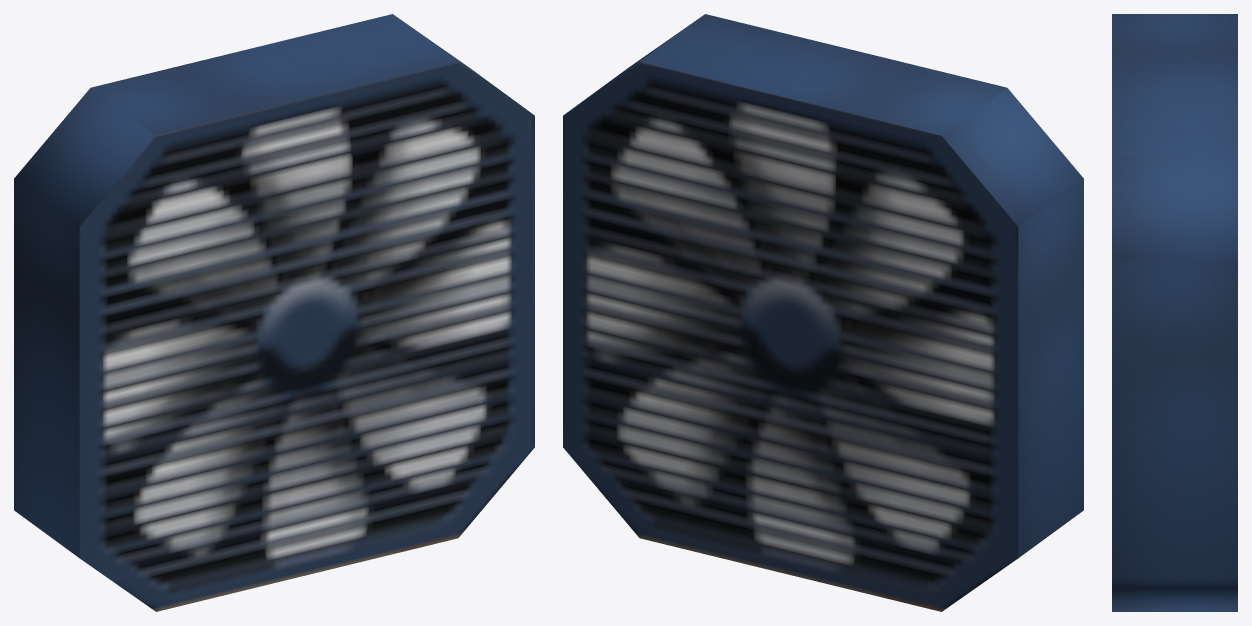
Rendered from BoxFan.fbx.
3 renders of one model, left to right at view 1: azimuth 30°, elevation 25°; view 2: azimuth 150°, elevation 25°; view 3: azimuth 270°, elevation 25°, orthographic. The views are drawn at different scales.
Parts seen in each view (by area): view 1: Maya_File_Assets:TexturedAssetsCurrent:boxFan; view 2: Maya_File_Assets:TexturedAssetsCurrent:boxFan; view 3: Maya_File_Assets:TexturedAssetsCurrent:boxFan.
Part boxes in pixels (x1=…): Maya_File_Assets:TexturedAssetsCurrent:boxFan: x1=14, y1=14, x2=534, y2=611; Maya_File_Assets:TexturedAssetsCurrent:boxFan: x1=563, y1=14, x2=1083, y2=611; Maya_File_Assets:TexturedAssetsCurrent:boxFan: x1=1112, y1=14, x2=1237, y2=611.
Size of the model in its own units: 0.8306 by 0.8306 by 0.2076.
